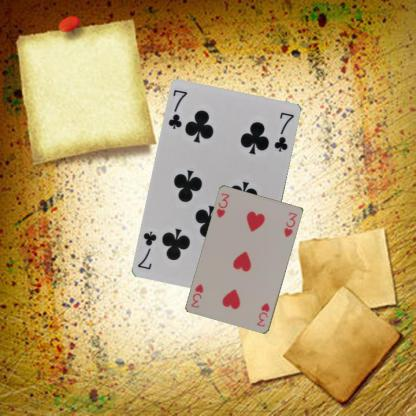3h: (214, 191, 231, 220), (254, 300, 271, 328)
7c: (166, 87, 189, 131)
